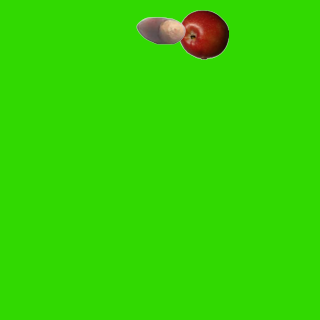Apple Braeburn: (178, 9, 228, 59)
Hazelnut: (135, 5, 185, 55)
